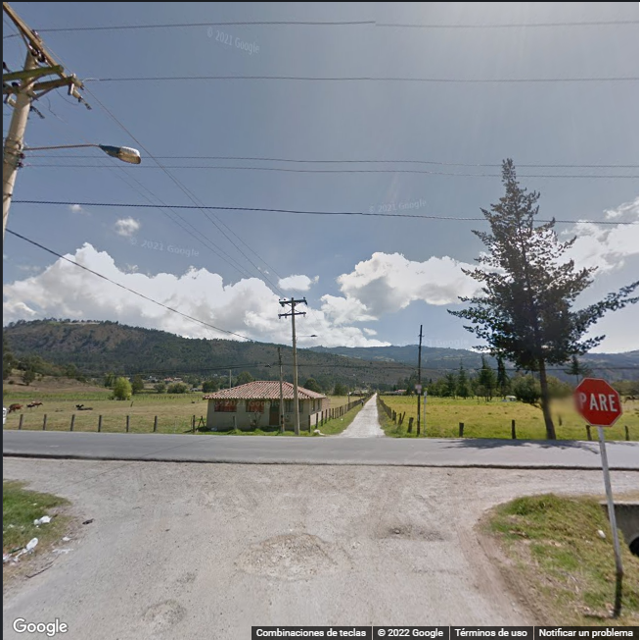D40: (230, 526, 337, 581), (140, 592, 192, 626)
